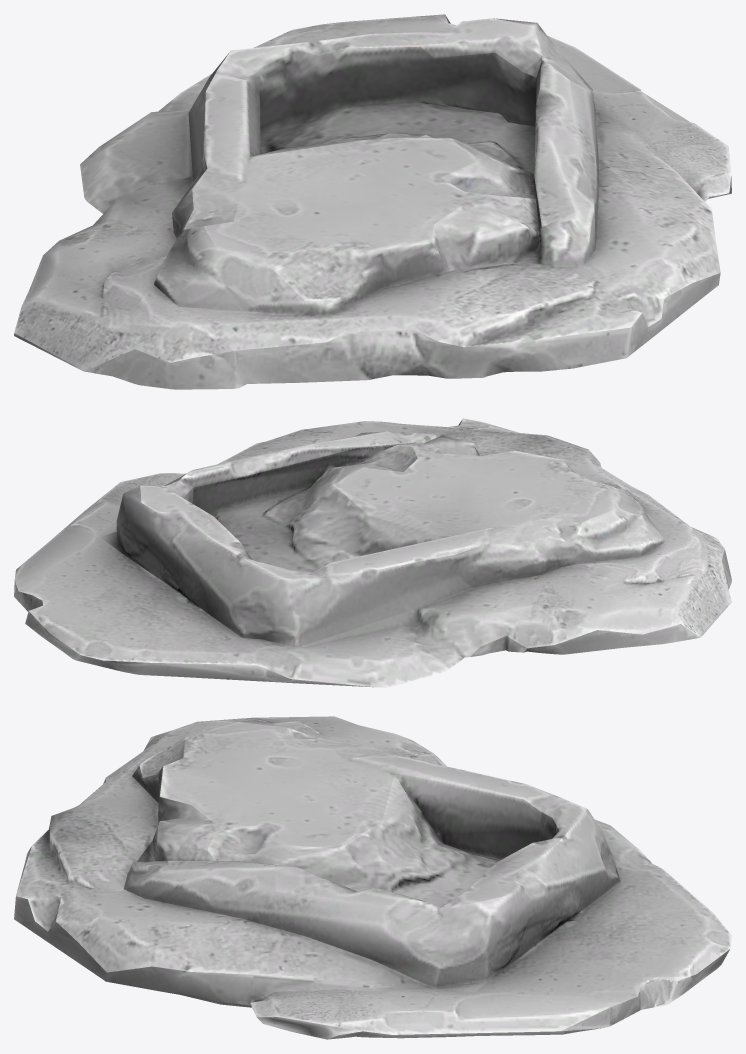
The model's file is rock_ground001.glb.
3 renders of one model, top to bottom at view 1: azimuth 30°, elevation 25°; view 2: azimuth 150°, elevation 25°; view 3: azimuth 270°, elevation 25°, orthographic. The views are drawn at different scales.
Visible parts, largest first — view 1: rock_ground001.vmdl_c.rock_ground001; view 2: rock_ground001.vmdl_c.rock_ground001; view 3: rock_ground001.vmdl_c.rock_ground001.
Boxes of the visible parts, bbox=[...] form: rock_ground001.vmdl_c.rock_ground001: bbox=[14, 14, 731, 389]; rock_ground001.vmdl_c.rock_ground001: bbox=[14, 418, 731, 687]; rock_ground001.vmdl_c.rock_ground001: bbox=[14, 716, 731, 1039].
Bounding box in the file's own units: 9.25 × 1.23 × 8.99.
1 material, 1 textured.
